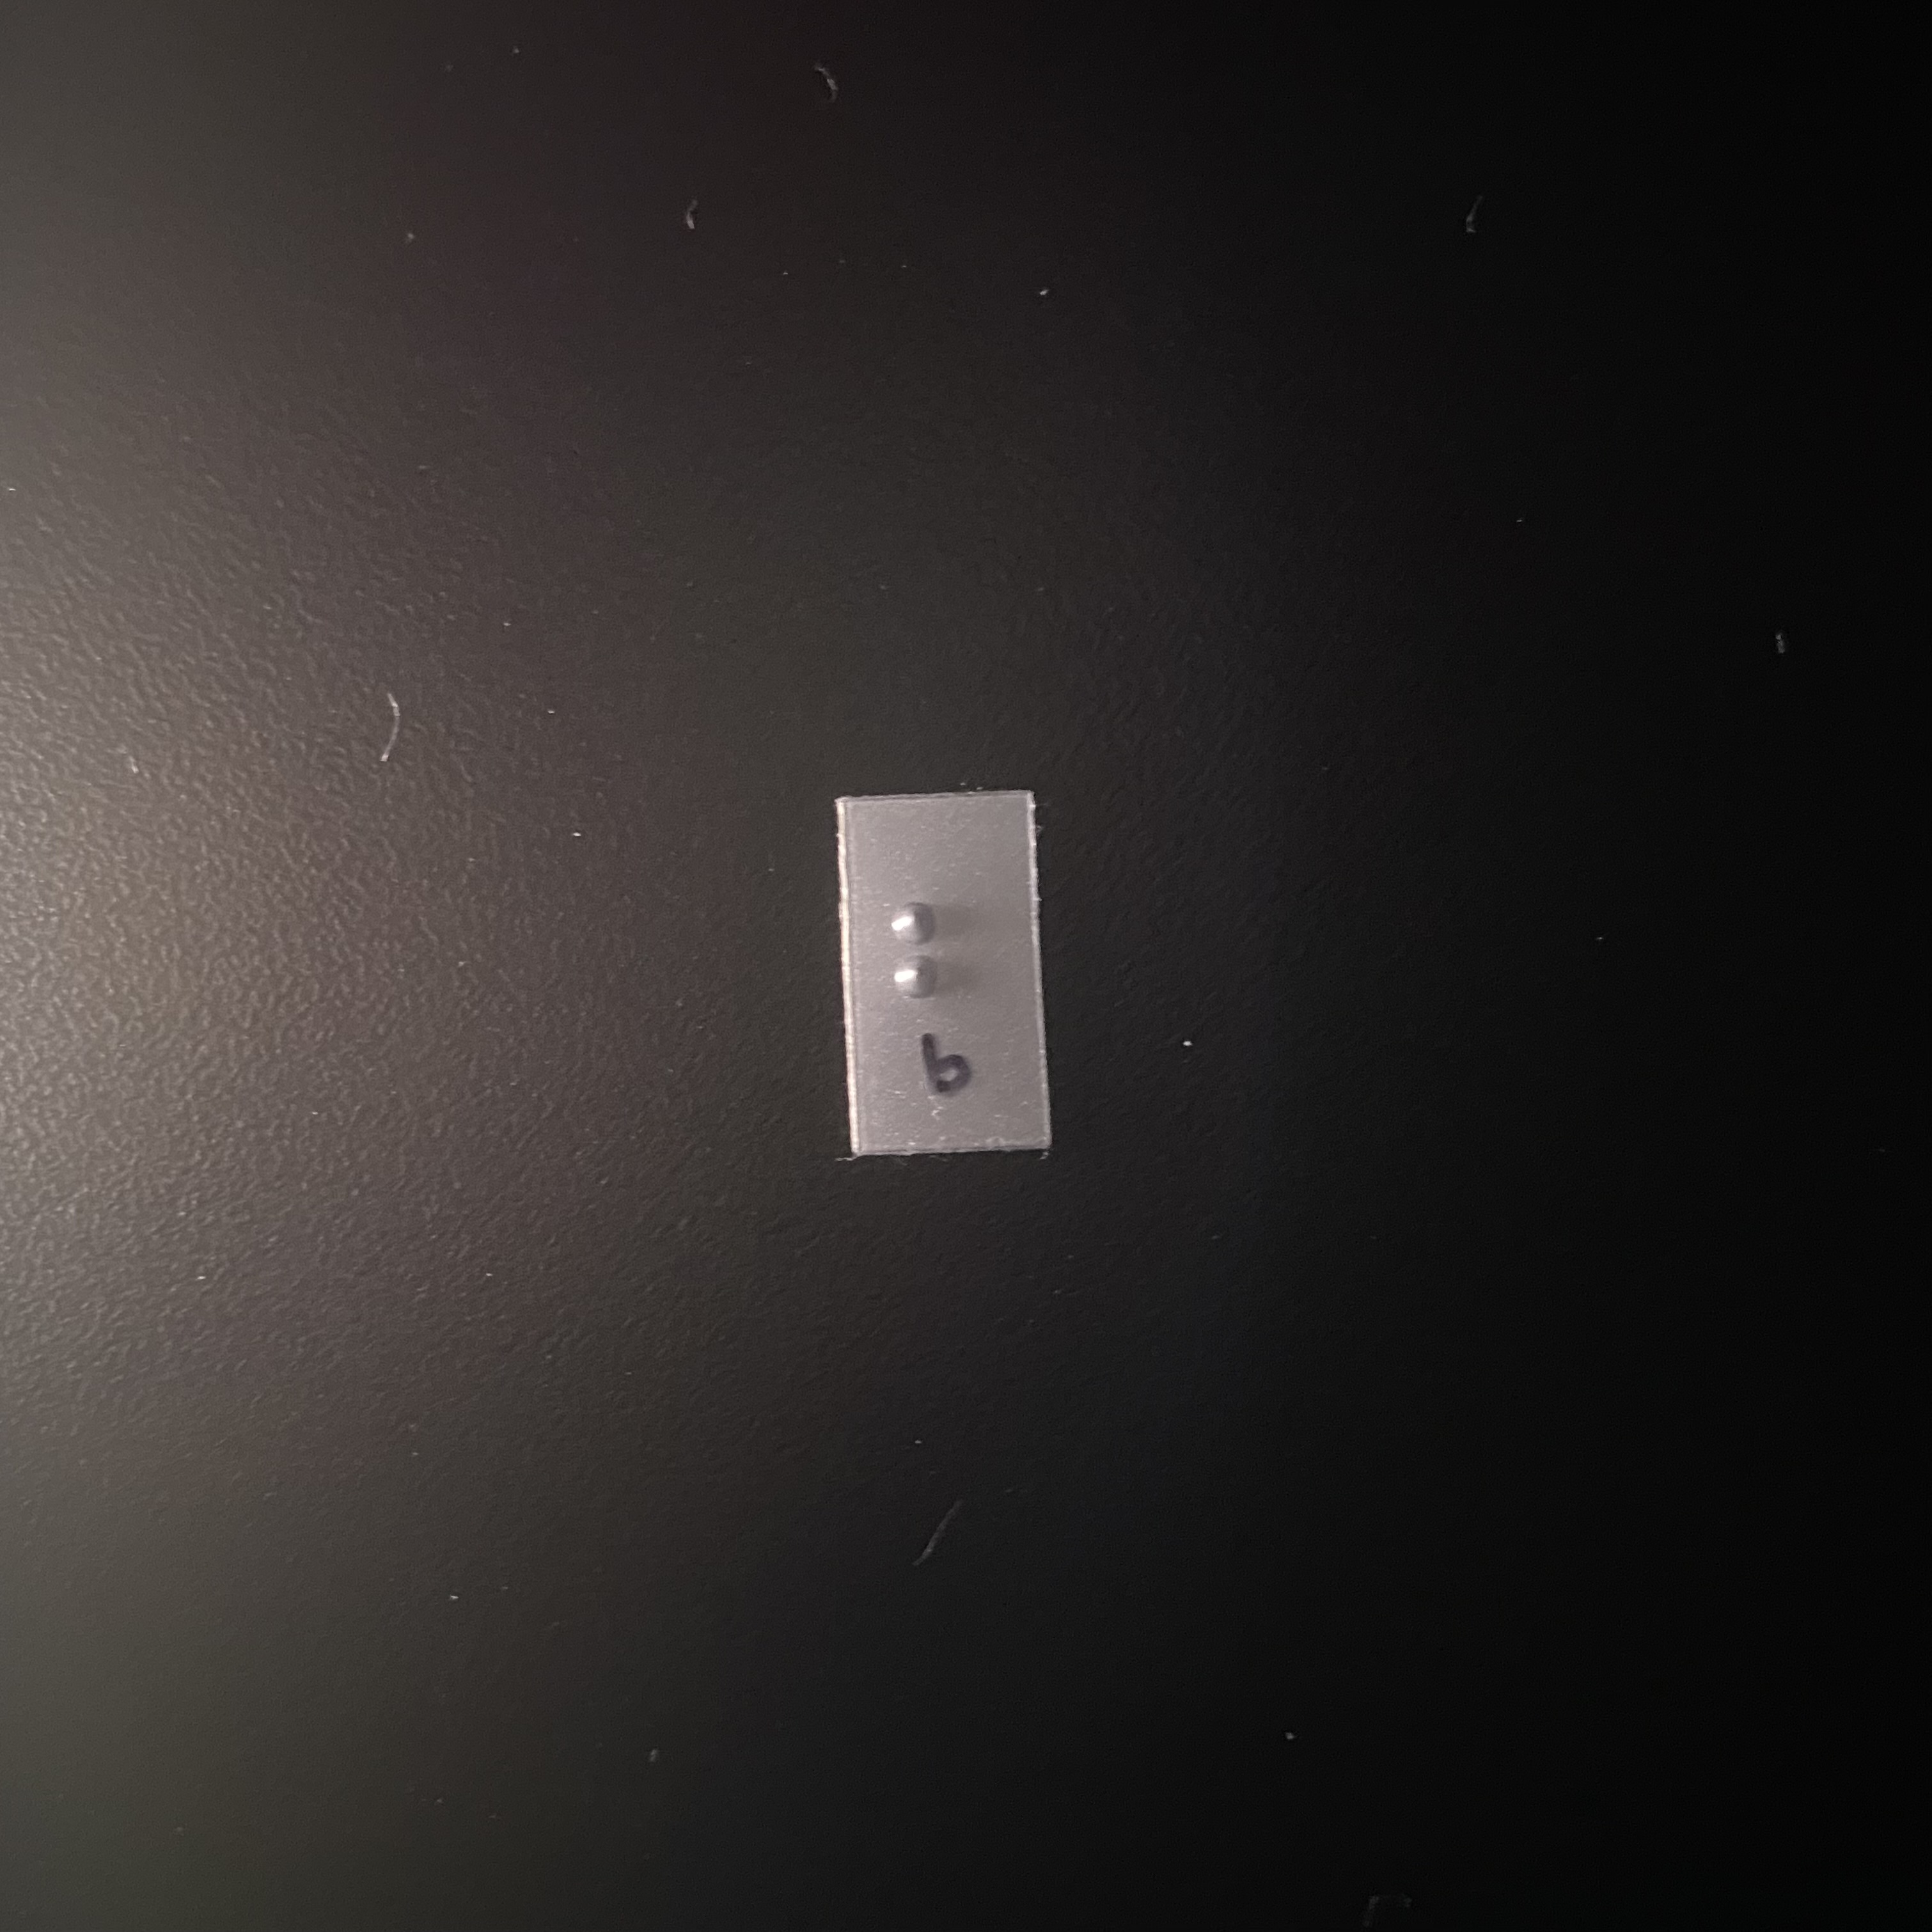b: (876, 885, 1010, 1099)
